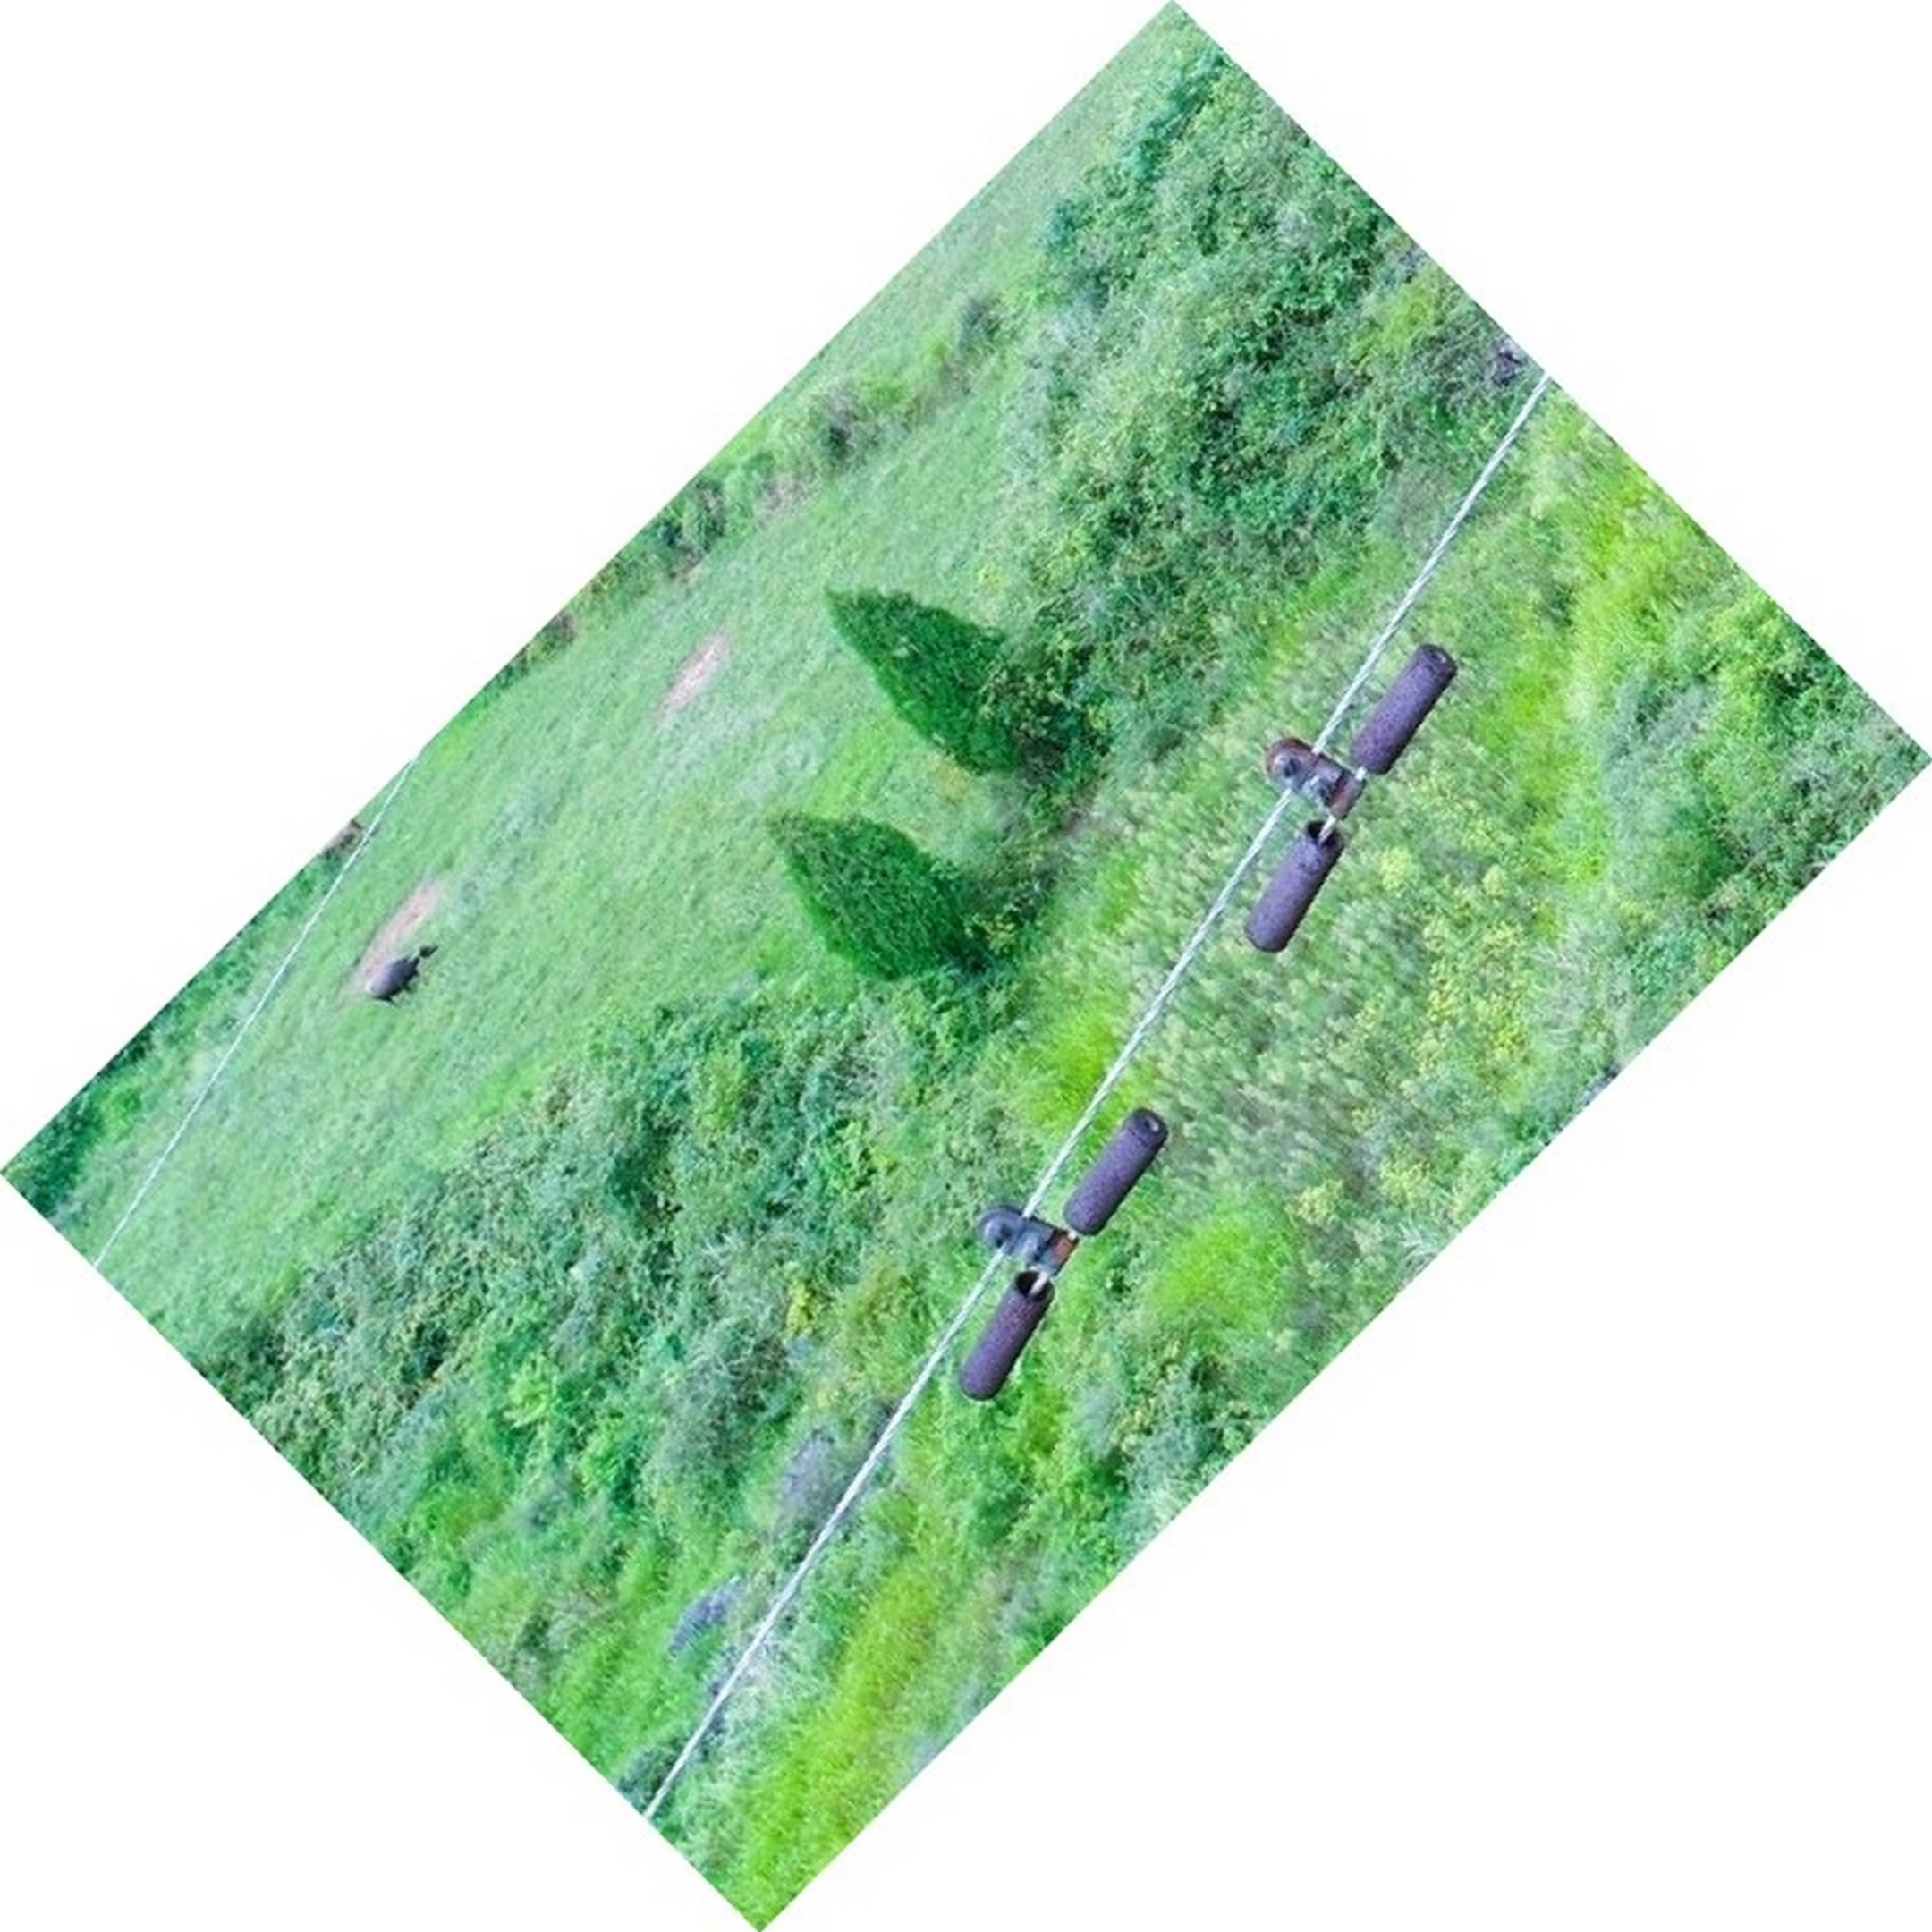Shockproof hammer: (1235, 614, 1504, 970), (947, 1086, 1201, 1419)
